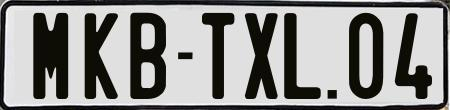0: (348, 10, 383, 100)
4: (392, 10, 435, 100)
B: (130, 13, 170, 100)
K: (83, 13, 118, 100)
L: (283, 10, 320, 101)
M: (32, 12, 73, 103)
T: (202, 10, 238, 97)
X: (244, 11, 283, 102)
